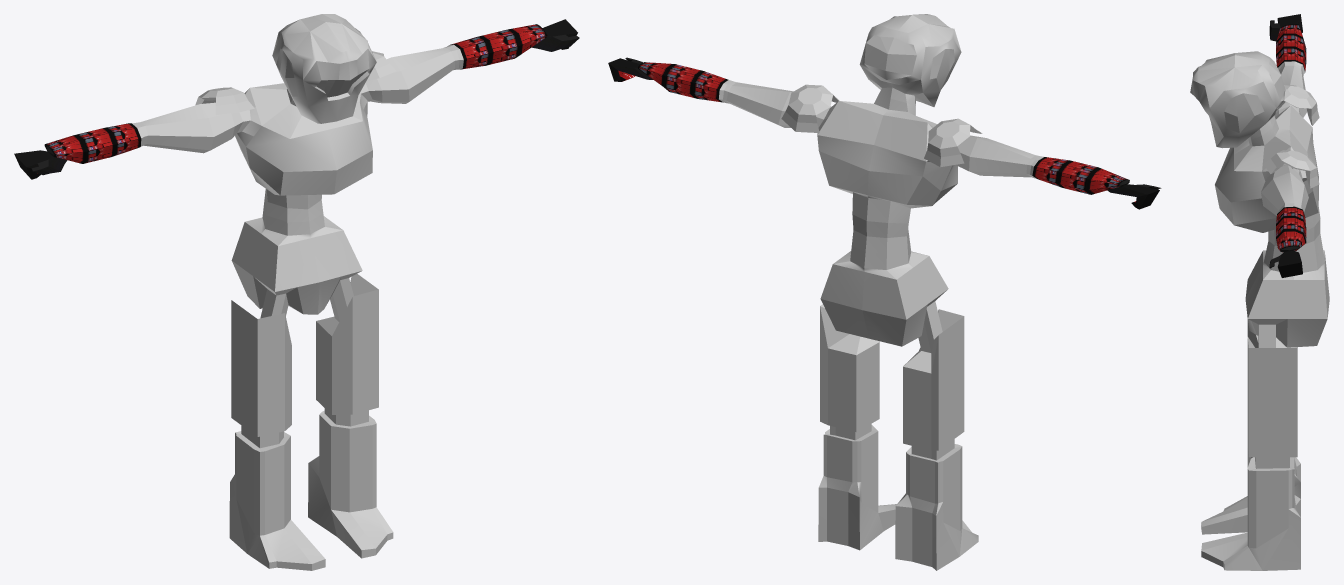
Rendered from morph1.obj.
3 renders of one model, left to right at view 1: azimuth 30°, elevation 25°; view 2: azimuth 150°, elevation 25°; view 3: azimuth 270°, elevation 25°, orthographic. The views are drawn at different scales.
Visible parts, largest first — view 1: Shputnik_Mesh; view 2: Shputnik_Mesh; view 3: Shputnik_Mesh.
Boxes of the visible parts, bbox=[...] form: Shputnik_Mesh: bbox=[14, 14, 579, 570]; Shputnik_Mesh: bbox=[608, 14, 1161, 570]; Shputnik_Mesh: bbox=[1190, 14, 1329, 570].
Size of the model in its own units: 13.55 by 12.39 by 3.21.
